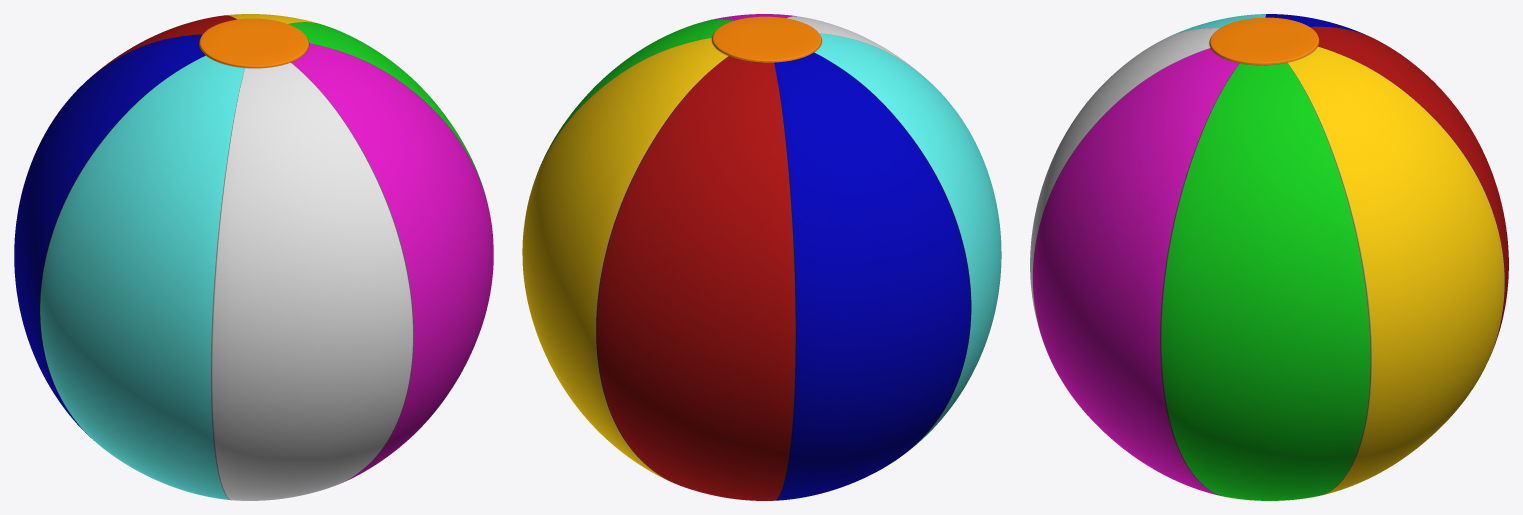
The model's file is Ball.gltf.
The picture shows the model from 3 angles, left to right: view 1: azimuth 30°, elevation 25°; view 2: azimuth 150°, elevation 25°; view 3: azimuth 270°, elevation 25°; orthographic projection.
Visible parts, largest first — view 1: 13517_Beach_Ball_v2_L3; view 2: 13517_Beach_Ball_v2_L3; view 3: 13517_Beach_Ball_v2_L3.
Boxes of the visible parts, box(x1,y1,x2,y2) form: 13517_Beach_Ball_v2_L3: box(14, 14, 493, 500); 13517_Beach_Ball_v2_L3: box(522, 14, 1001, 500); 13517_Beach_Ball_v2_L3: box(1030, 14, 1508, 500).
Bounding box in the file's own units: 4.12 × 4.19 × 4.12.
2 materials, 1 textured.
